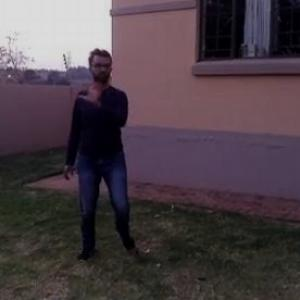follow_hand: (75, 74, 104, 104)
